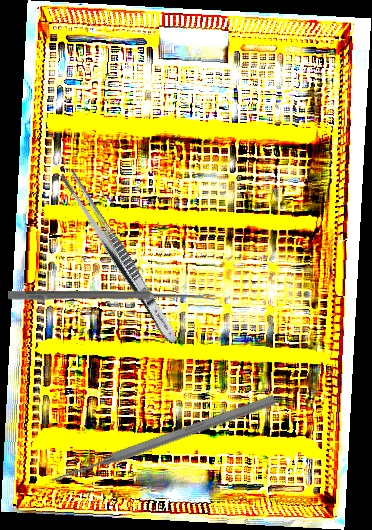Dressing Forceps: (56, 167, 184, 348)
Pusher: (50, 392, 277, 487)
Surgical Spoon: (8, 291, 215, 301)
